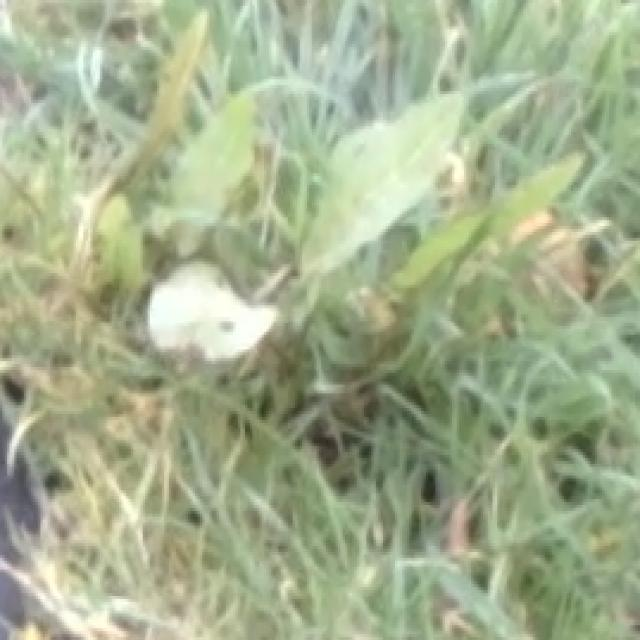organic waste: (134, 83, 624, 433)
